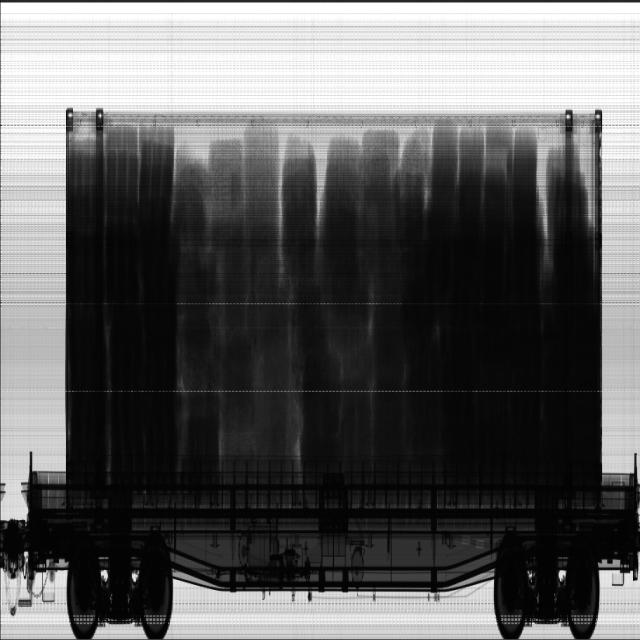clothes: (70, 122, 179, 468)
textile: (178, 123, 595, 467)
